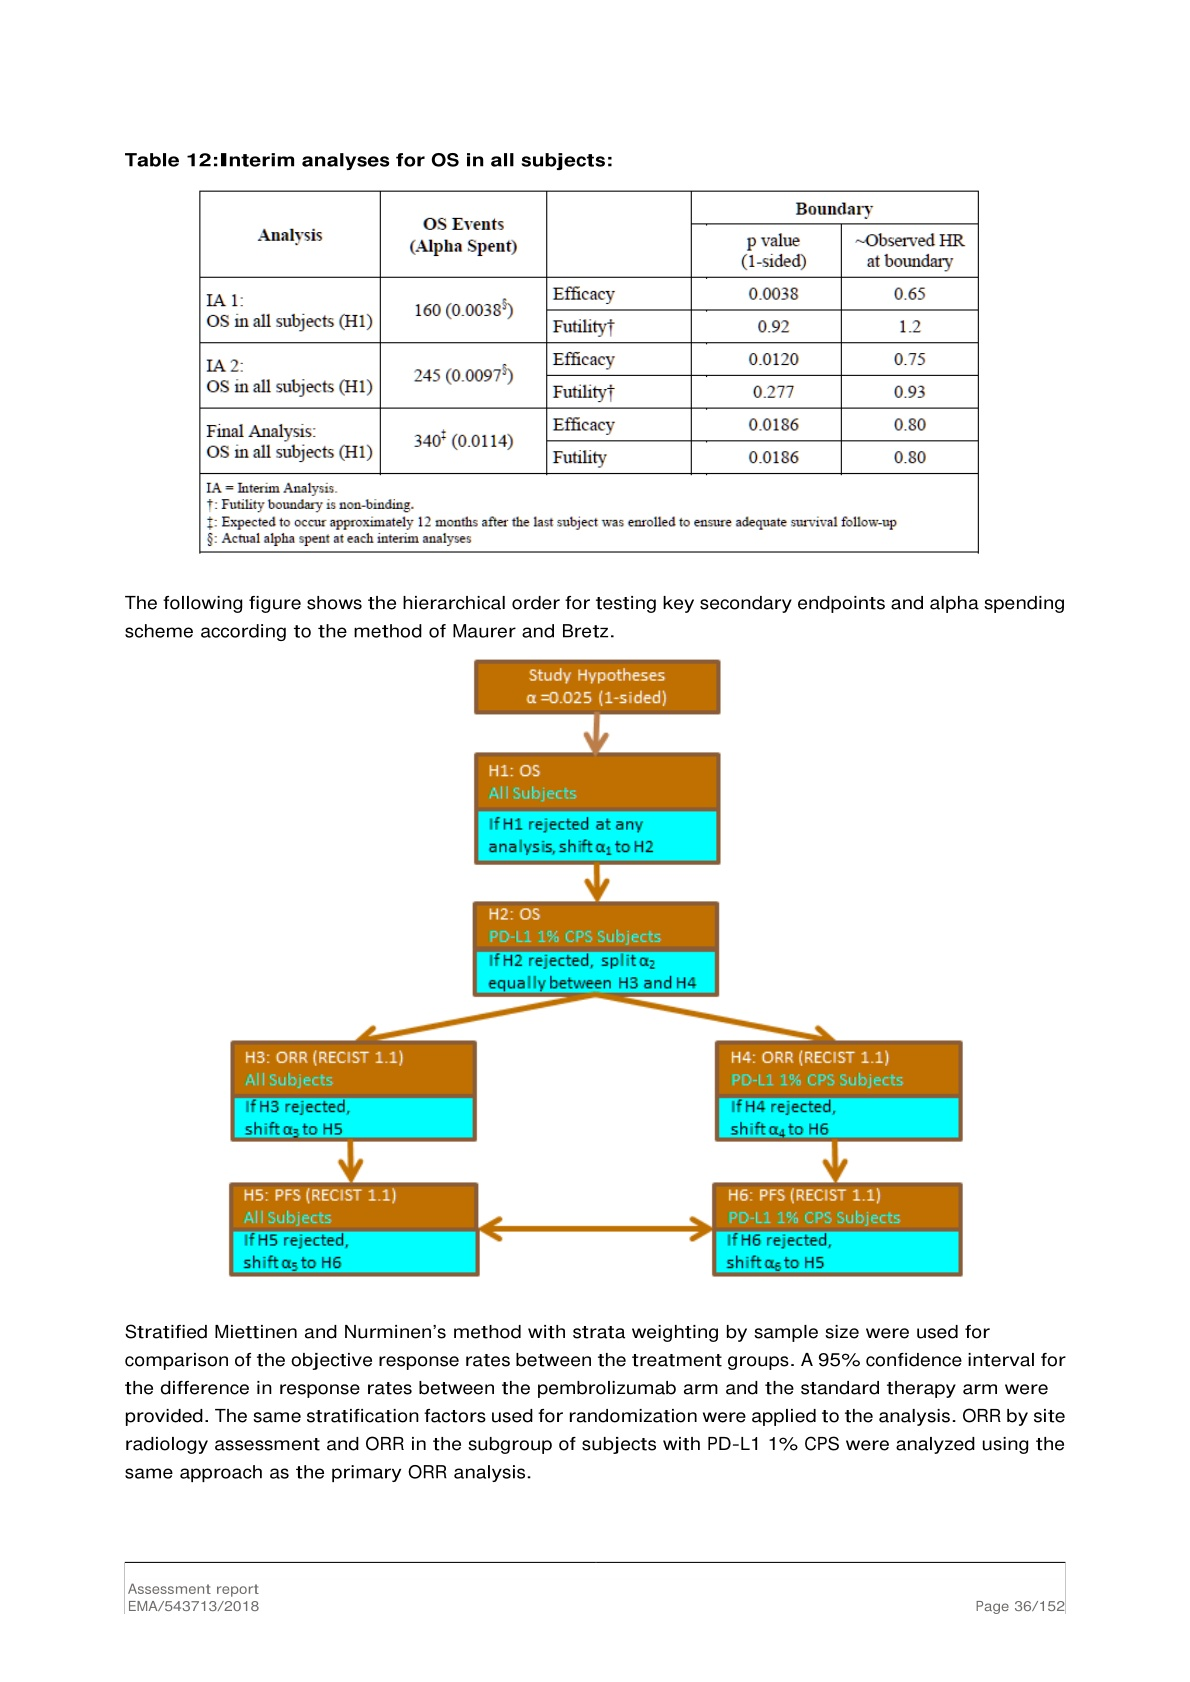merged_cells: (198, 189, 981, 554)
